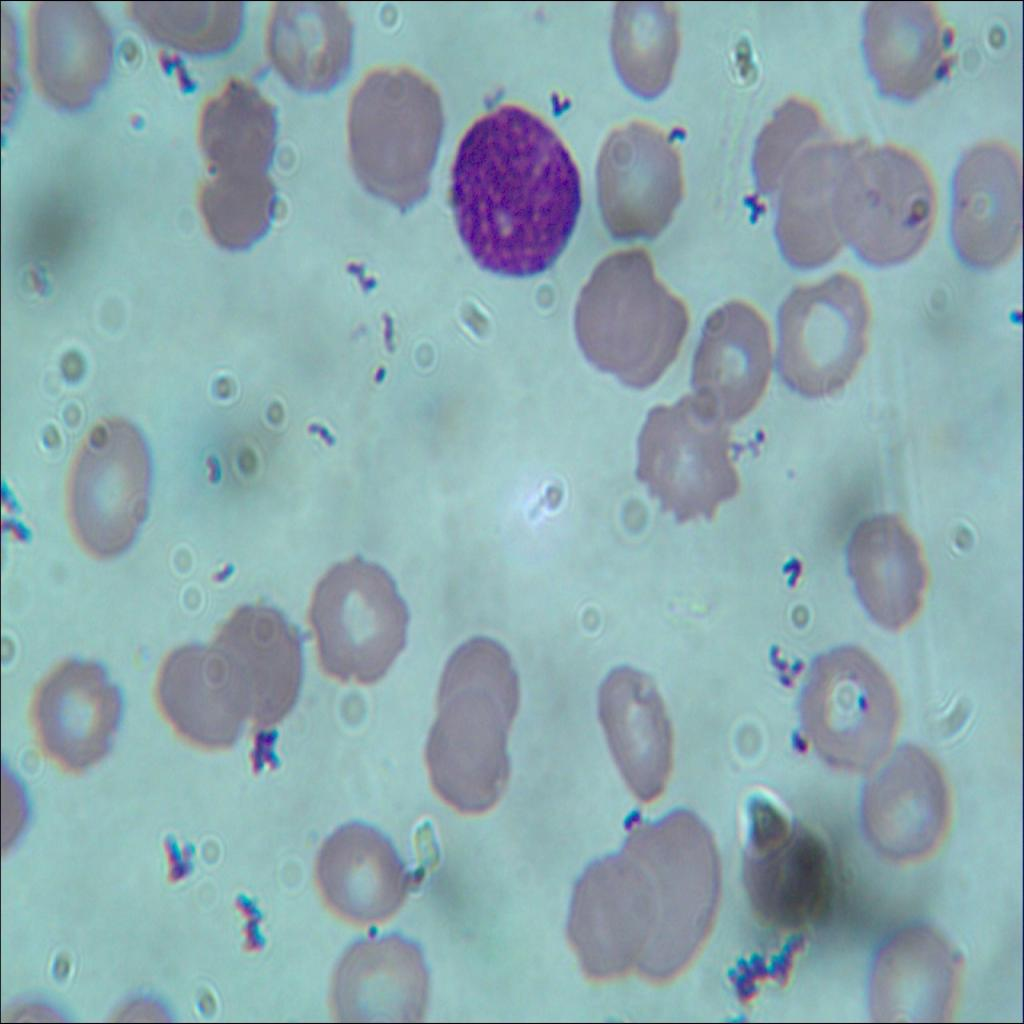Eritrosit: (618, 808, 726, 980), (58, 410, 168, 568), (570, 258, 696, 395), (308, 550, 422, 701), (786, 639, 900, 782), (828, 500, 938, 648), (626, 381, 740, 514), (341, 58, 443, 204), (584, 111, 693, 241), (211, 591, 308, 727), (562, 844, 658, 980), (858, 744, 955, 874), (778, 271, 874, 398), (303, 808, 406, 924), (24, 0, 118, 127), (22, 654, 123, 771), (862, 900, 958, 1023), (686, 298, 776, 424), (323, 928, 438, 1023), (418, 690, 504, 817), (428, 634, 518, 755), (842, 154, 938, 266), (598, 664, 678, 798), (738, 88, 826, 204), (773, 141, 856, 263), (263, 0, 349, 111), (851, 0, 939, 108), (191, 68, 283, 171), (953, 138, 1023, 268), (194, 157, 279, 258), (151, 648, 242, 742), (604, 0, 679, 106)
Limfoblast: (444, 104, 590, 287)
Platelet: (364, 354, 406, 405), (994, 291, 1023, 344), (112, 106, 146, 148), (353, 909, 384, 951)
